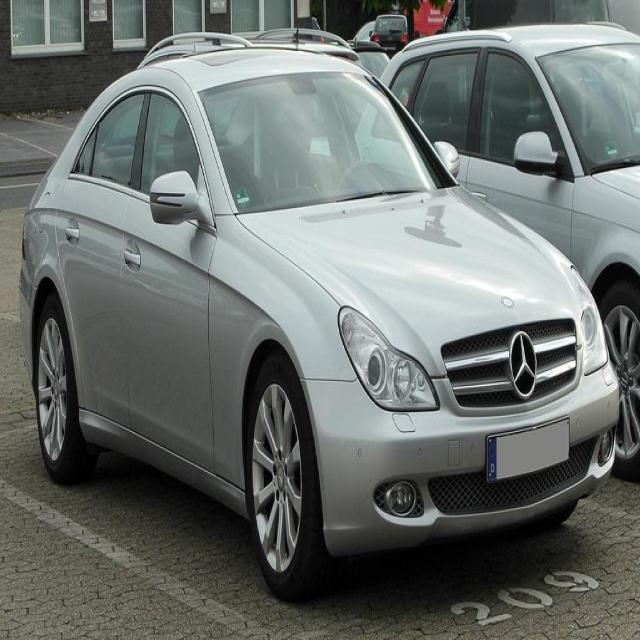car: (18, 45, 617, 600)
